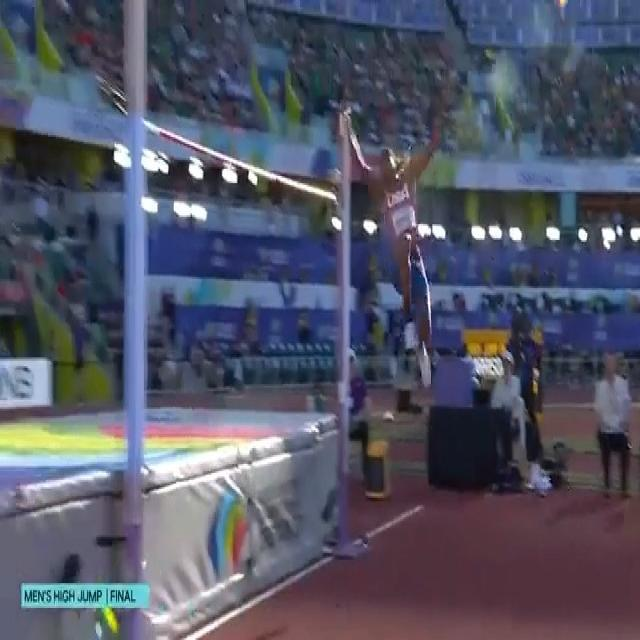land: (343, 117, 439, 383)
